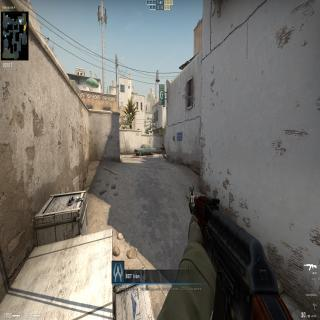T-Head: (162, 143, 164, 147)
